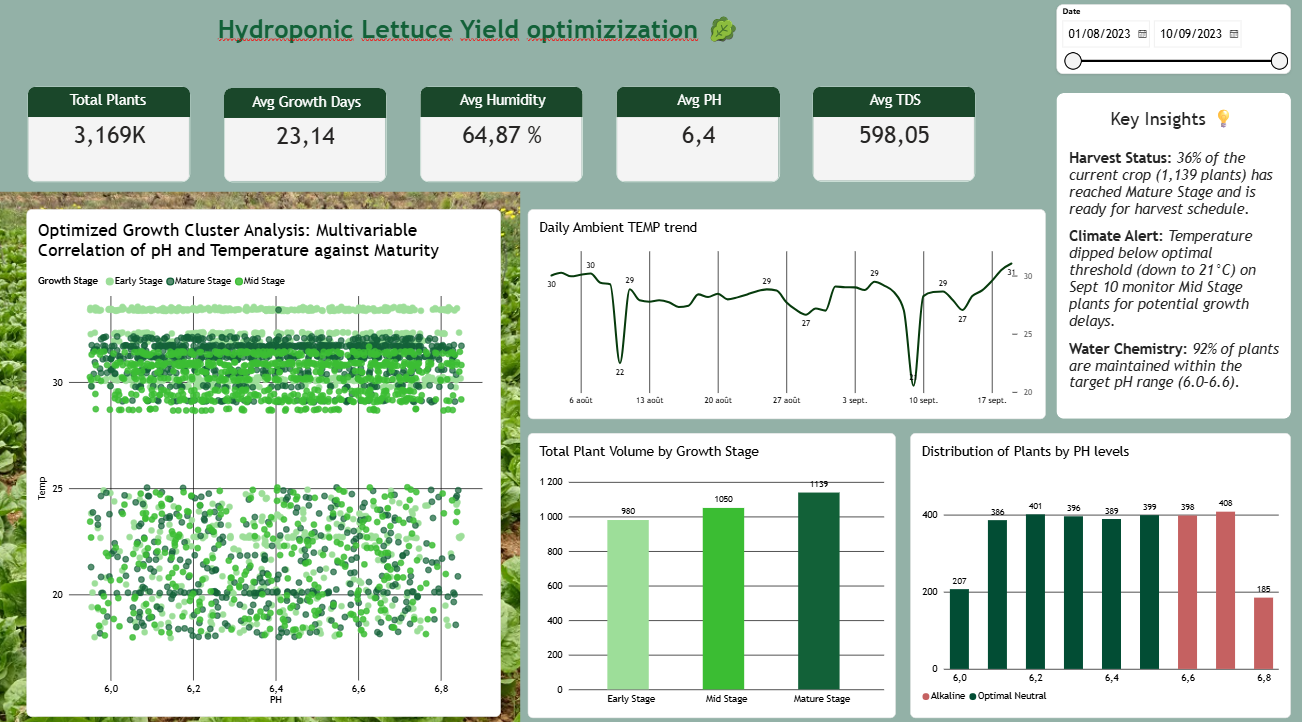

The dashboard page shown, as its layout file describes it:
{"tool":"powerbi","page":{"name":"Page 1","canvas":[1920,1080],"ordinal":0},"visuals":[{"type":"cardVisual","fields":{"Data":["Measures Table.Total Plants"]},"box":[28.2,122.7,238.6,140],"z":0,"group":"g1"},{"type":"cardVisual","fields":{"Data":["Measures Table.Average Humidity"]},"box":[605.4,122.7,238.6,140],"z":0,"group":"g3"},{"type":"cardVisual","fields":{"Data":["Measures Table.Average pH"]},"box":[892.8,122.7,240,140],"z":0,"group":"g4"},{"type":"cardVisual","fields":{"Data":["Measures Table.Average TDS"]},"box":[1181.1,122.7,238.5,139.5],"z":0,"group":"g5"},{"type":"cardVisual","fields":{"Data":["Measures Table.Average Growth Days"]},"box":[316.8,124.1,238.6,138.6],"z":0,"group":"g2"},{"type":"image","box":[25.7,284.3,739.2,796.1],"z":500},{"type":"textbox","box":[2,18,1405.8,94.7],"z":1000},{"type":"shape","box":[28.2,122.7,238.6,44.6],"z":1000,"group":"g1"},{"type":"shape","box":[605.4,122.7,238.6,44.6],"z":1000,"group":"g3"},{"type":"shape","box":[892.8,122.7,240,44.6],"z":1000,"group":"g4"},{"type":"shape","box":[1181.1,122.7,238.5,44.5],"z":1000,"group":"g5"},{"type":"shape","box":[316.8,124.1,238.6,44.2],"z":1000,"group":"g2"},{"type":"slicer","fields":{"Values":["Calendar.Date"]},"box":[1552,10,344,102],"z":2000},{"type":"textbox","box":[57,130.8,183,62.9],"z":2000,"group":"g1"},{"type":"textbox","box":[634.2,130.8,183,62.9],"z":2000,"group":"g3"},{"type":"textbox","box":[921.8,130.8,184.1,62.9],"z":2000,"group":"g4"},{"type":"textbox","box":[1209.9,130.8,183,62.7],"z":2000,"group":"g5"},{"type":"textbox","box":[345.6,132.1,183,62.3],"z":2000,"group":"g2"},{"type":"group","id":"g1","title":"Group 1","box":[28.2,122.7,238.6,140],"z":3000},{"type":"group","id":"g2","title":"Group 1","box":[316.8,124.1,238.6,138.6],"z":4000},{"type":"group","id":"g3","title":"Group 1","box":[605.4,122.7,238.6,140],"z":5000},{"type":"group","id":"g4","title":"Group 1","box":[892.8,122.7,240,140],"z":6000},{"type":"scatterChart","title":"Optimized Growth Cluster Analysis: Multivariable Correlation of pH and Temperature against Maturity","fields":{"Series":["lettuce_dataset_updated.Growth Stage Group"],"X":["lettuce_dataset_updated.Jittered pH"],"Y":["lettuce_dataset_updated.Jittered Temp"]},"box":[40.4,310,711.7,746.5],"z":7000},{"type":"lineStackedColumnComboChart","title":"Daily Ambient TEMP trend","fields":{"Y2":["Measures Table.Average Temperature"],"Category":["lettuce_dataset_updated.Date"]},"box":[776,310,760,308],"z":8000},{"type":"group","id":"g5","title":"Group 1","box":[1181.1,122.7,237.1,140],"z":9000},{"type":"lineStackedColumnComboChart","title":"Distribution of Plants by pH levels","fields":{"Category":["lettuce_dataset_updated.pH Level"],"Y":["CountNonNull(lettuce_dataset_updated.Plant_ID)"],"Series":["lettuce_dataset_updated.pH_Category"]},"box":[1338,638,558,418],"z":10000},{"type":"columnChart","title":"Total Plant Volume by Growth Stage","fields":{"Y":["CountNonNull(lettuce_dataset_updated.Plant_ID)"],"Category":["lettuce_dataset_updated.Growth Stage Group"]},"box":[776,638,540,418],"z":11000},{"type":"shape","box":[1552,140,344,478],"z":12000},{"type":"textbox","box":[1604,158,240,64],"z":13000},{"type":"textbox","box":[1570,222,308,376],"z":14000}]}

Visuals, with their boxes in screenshot pixels (x1, y1, x2, y2), scaled from the page's 1920x1080 canvas onto the 1302x722 screenshot:
cardVisual - Measures Table.Total Plants: [19, 82, 181, 176]
cardVisual - Measures Table.Average Humidity: [411, 82, 572, 176]
cardVisual - Measures Table.Average pH: [605, 82, 768, 176]
cardVisual - Measures Table.Average TDS: [801, 82, 963, 175]
cardVisual - Measures Table.Average Growth Days: [215, 83, 377, 176]
image: [17, 190, 519, 721]
textbox: [1, 12, 955, 75]
shape: [19, 82, 181, 112]
shape: [411, 82, 572, 112]
shape: [605, 82, 768, 112]
shape: [801, 82, 963, 112]
shape: [215, 83, 377, 113]
slicer - Calendar.Date: [1052, 7, 1286, 75]
textbox: [39, 87, 163, 129]
textbox: [430, 87, 554, 129]
textbox: [625, 87, 750, 129]
textbox: [820, 87, 945, 129]
textbox: [234, 88, 358, 130]
"Group 1" group: [19, 82, 181, 176]
"Group 1" group: [215, 83, 377, 176]
"Group 1" group: [411, 82, 572, 176]
"Group 1" group: [605, 82, 768, 176]
"Optimized Growth Cluster Analysis: Multivariable Correlation of pH and Temperature against Maturity" scatterChart: [27, 207, 510, 706]
"Daily Ambient TEMP trend" lineStackedColumnComboChart: [526, 207, 1042, 413]
"Group 1" group: [801, 82, 962, 176]
"Distribution of Plants by pH levels" lineStackedColumnComboChart: [907, 427, 1286, 706]
"Total Plant Volume by Growth Stage" columnChart: [526, 427, 892, 706]
shape: [1052, 94, 1286, 413]
textbox: [1088, 106, 1250, 148]
textbox: [1065, 148, 1274, 400]
